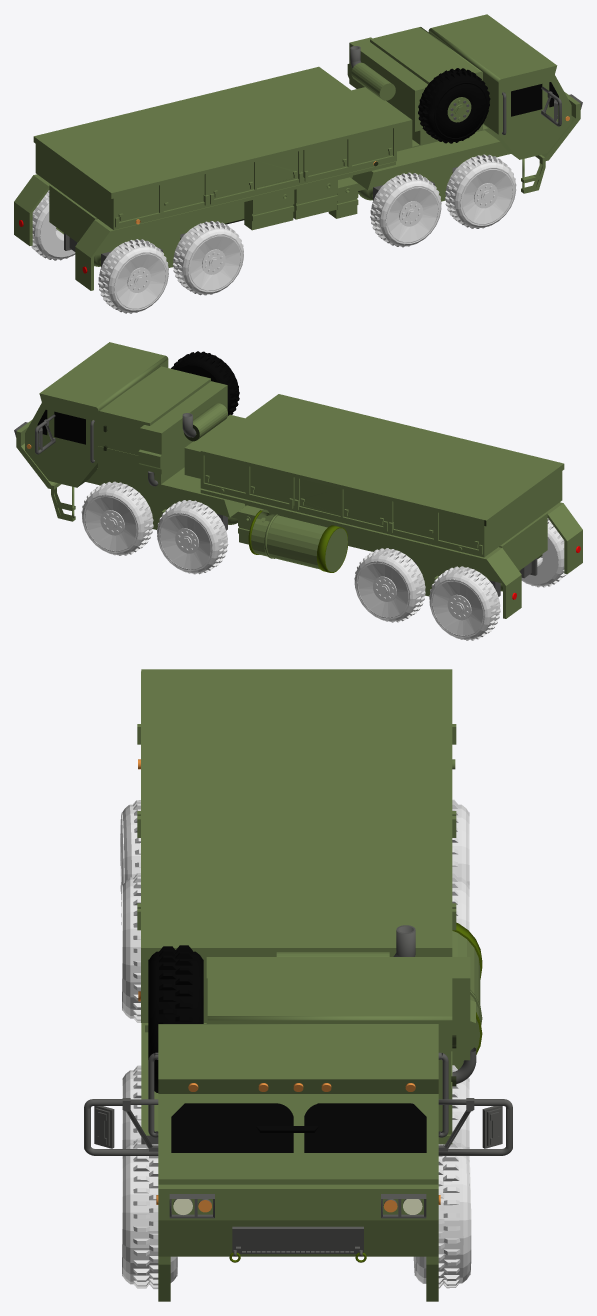
File: OshKosh full.fbx
3 views of the same model, one above another, from view 1: azimuth 30°, elevation 25°; view 2: azimuth 150°, elevation 25°; view 3: azimuth 270°, elevation 25° (orthographic). The views are drawn at different scales.
Parts seen in each view (by area): view 1: SketchUp_033, Oshkosh Wheel.012, Oshkosh Wheel.014, Oshkosh Wheel.013, Oshkosh Wheel.015, Oshkosh Wheel.002; view 2: SketchUp_033, Oshkosh Wheel, Oshkosh Wheel.002, Oshkosh Wheel.003, Oshkosh Wheel.001, Oshkosh Wheel.015; view 3: SketchUp_033, Oshkosh Wheel.013, Oshkosh Wheel, Oshkosh Wheel.014, Oshkosh Wheel.015, Oshkosh Wheel.002, Oshkosh Wheel.012, Oshkosh Wheel.001, Oshkosh Wheel.003.
Part boxes in pixels (<box>): SketchUp_033: <box>14,14,582,290</box>; Oshkosh Wheel.012: <box>370,172,441,247</box>; Oshkosh Wheel.014: <box>172,221,243,295</box>; Oshkosh Wheel.013: <box>445,154,516,228</box>; Oshkosh Wheel.015: <box>98,239,168,313</box>; Oshkosh Wheel.002: <box>31,190,75,260</box>; SketchUp_033: <box>14,342,582,618</box>; Oshkosh Wheel: <box>81,481,153,555</box>; Oshkosh Wheel.002: <box>429,566,500,640</box>; Oshkosh Wheel.003: <box>354,548,425,622</box>; Oshkosh Wheel.001: <box>157,500,228,574</box>; Oshkosh Wheel.015: <box>521,518,566,587</box>; SketchUp_033: <box>84,669,512,1301</box>; Oshkosh Wheel.013: <box>122,1138,177,1289</box>; Oshkosh Wheel: <box>413,1139,471,1288</box>; Oshkosh Wheel.014: <box>122,873,140,1022</box>; Oshkosh Wheel.015: <box>120,800,140,924</box>; Oshkosh Wheel.002: <box>452,799,469,885</box>; Oshkosh Wheel.012: <box>122,1065,141,1148</box>; Oshkosh Wheel.001: <box>452,1065,469,1148</box>; Oshkosh Wheel.003: <box>452,872,469,931</box>.
Bounding box in the file's own units: 4.45 × 3.55 × 11.96.
